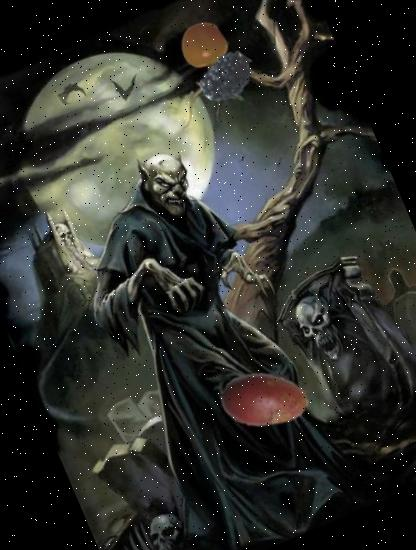Mulberry: (191, 41, 264, 114)
Physalis: (170, 14, 238, 80)
Potato: (206, 342, 322, 459)
